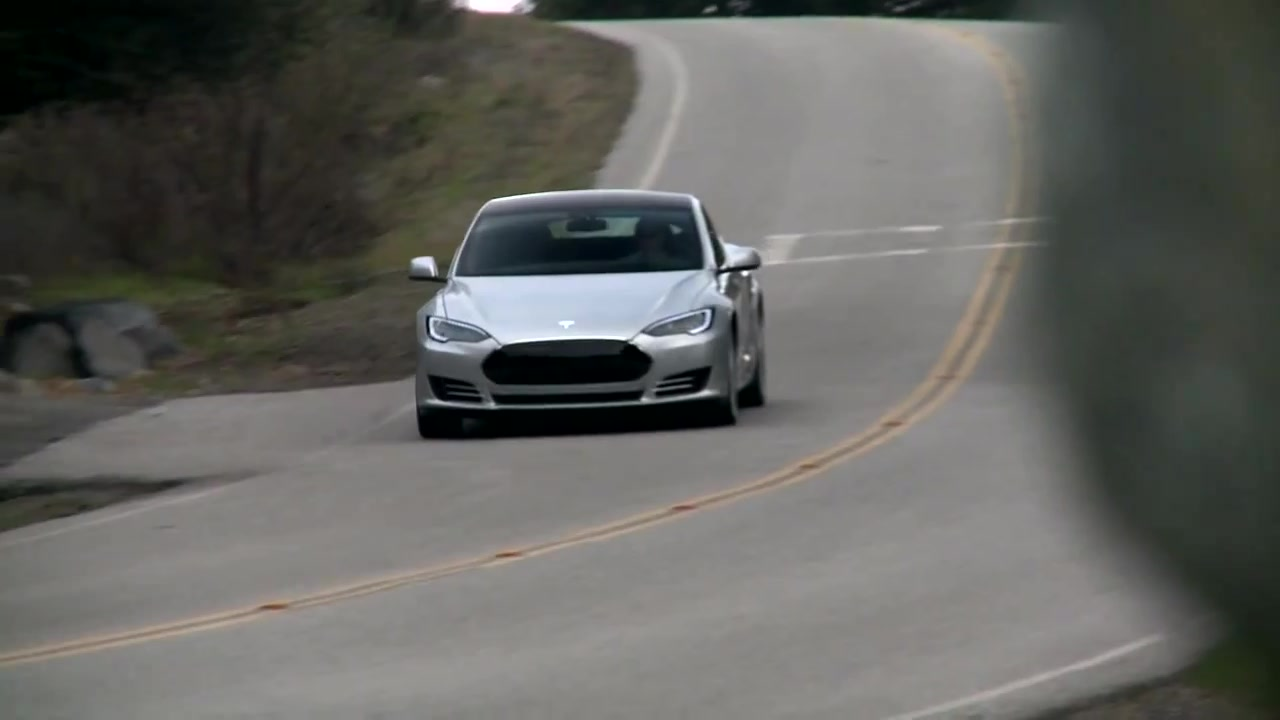car: (406, 190, 777, 429)
